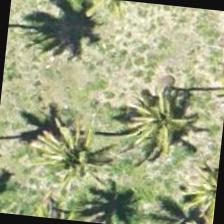Kelapa_Sawit: (47, 96, 146, 195), (105, 77, 204, 176)
